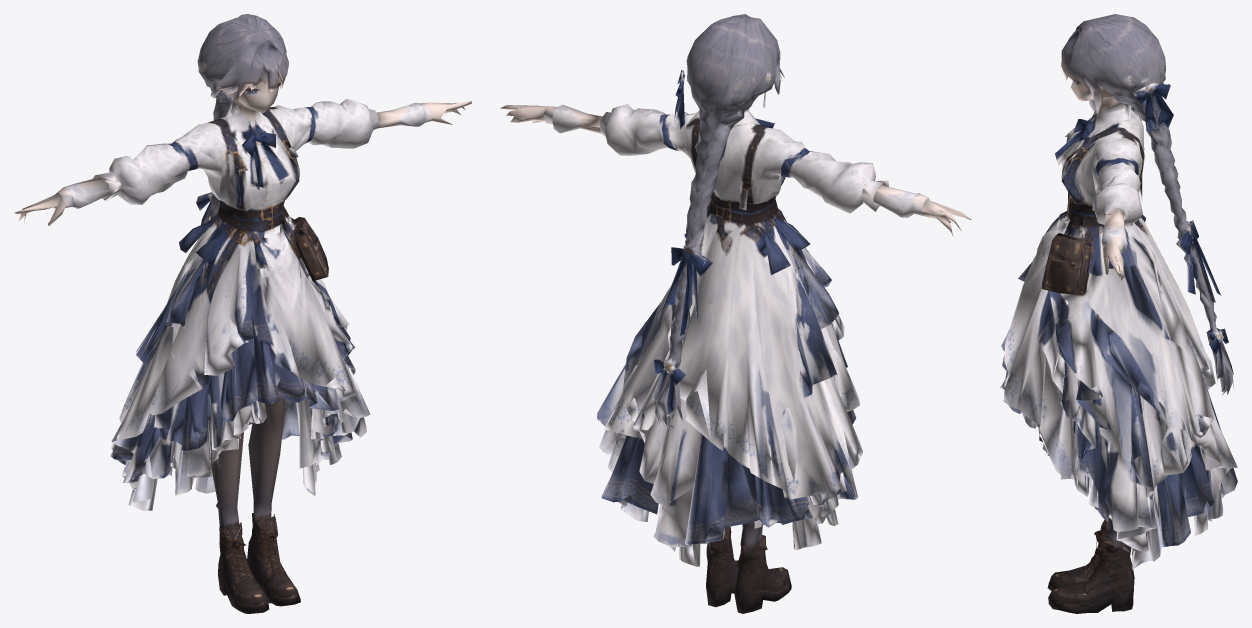
File: Seamstress.fbx
3 views of the same model, side by side, from view 1: azimuth 30°, elevation 25°; view 2: azimuth 150°, elevation 25°; view 3: azimuth 270°, elevation 25° (orthographic). The views are drawn at different scales.
Visible parts, largest first — view 1: Mesh_0; view 2: Mesh_0; view 3: Mesh_0.
Boxes of the visible parts, x1,y1,x2,y2 form: Mesh_0: (14, 14, 471, 613); Mesh_0: (500, 14, 971, 613); Mesh_0: (1000, 14, 1237, 613).
Bounding box in the file's own units: 160 × 190 × 70.4.
1 material, 1 textured.
